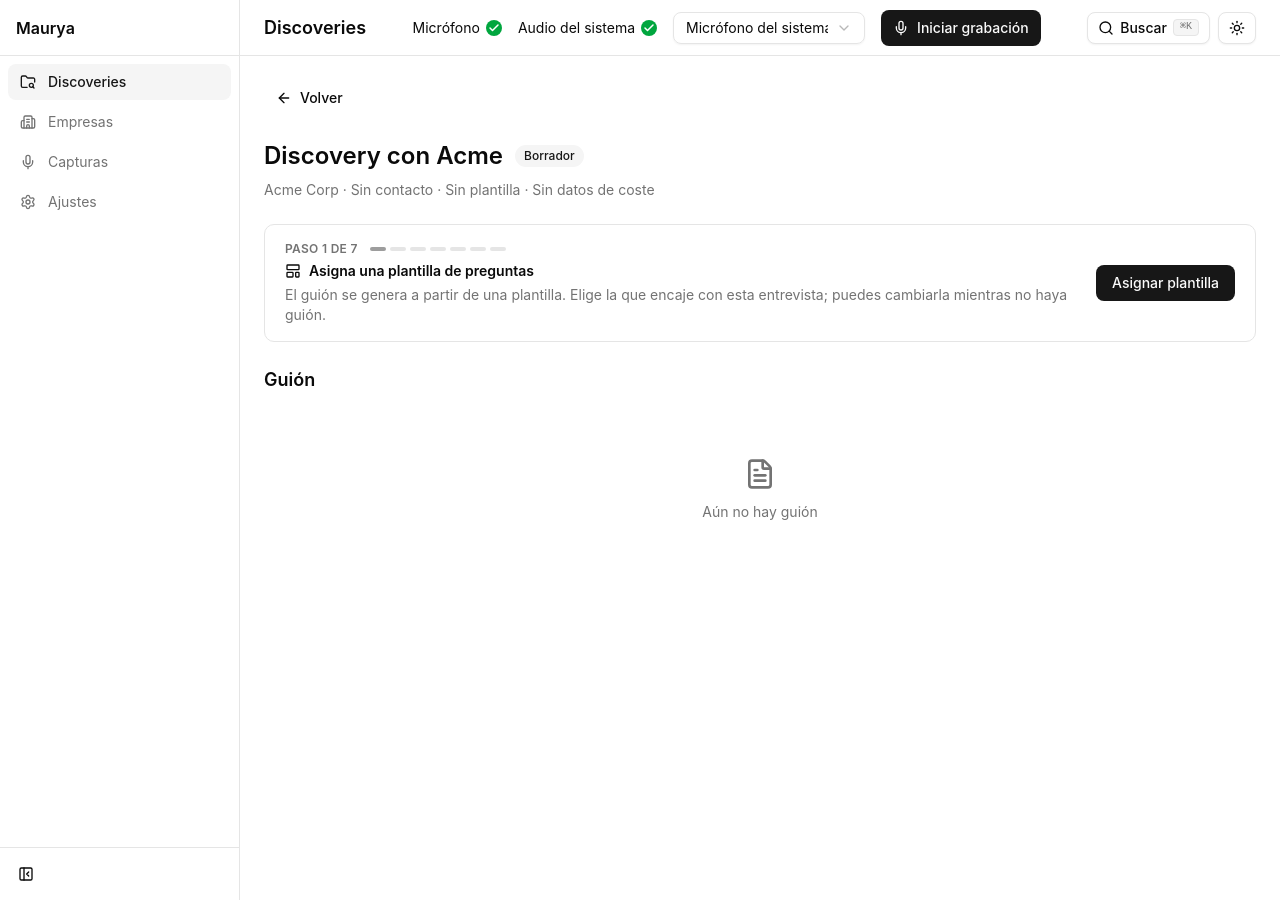
Scenario: DiscardReasonsDialog (motivos al finalizar SPEC-039) › closes without persisting anything when Omitir is pressed
The width and height of the screenshot is (1280, 900).
Click the button "Iniciar grabación": (961, 28) x1=881 y1=10 x2=1041 y2=46
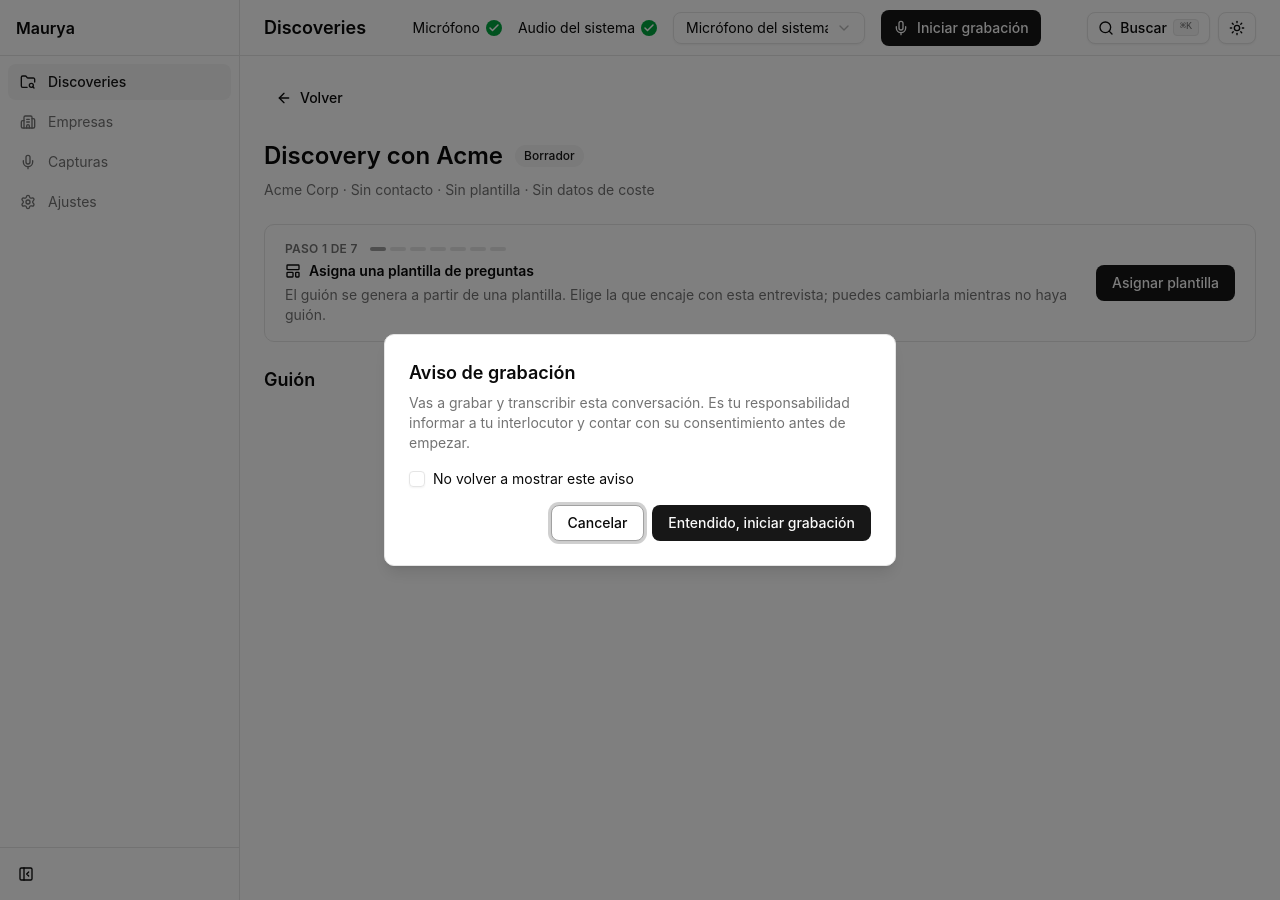
Click the button "Entendido, iniciar grabación": (762, 523) x1=652 y1=505 x2=871 y2=541
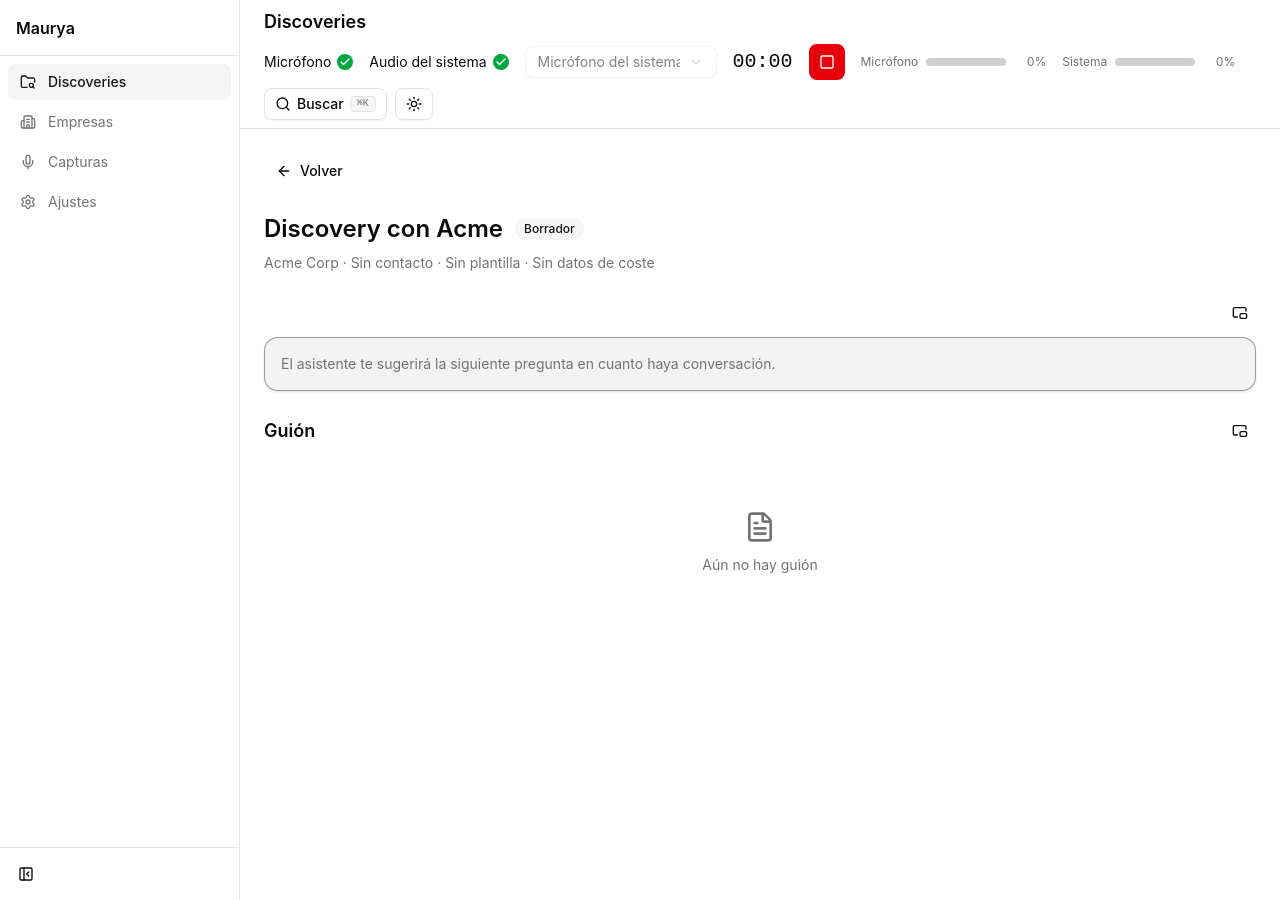
Check: the button named "Detener" is shown
Click the button named "Detener": (826, 62) x1=808 y1=44 x2=844 y2=80
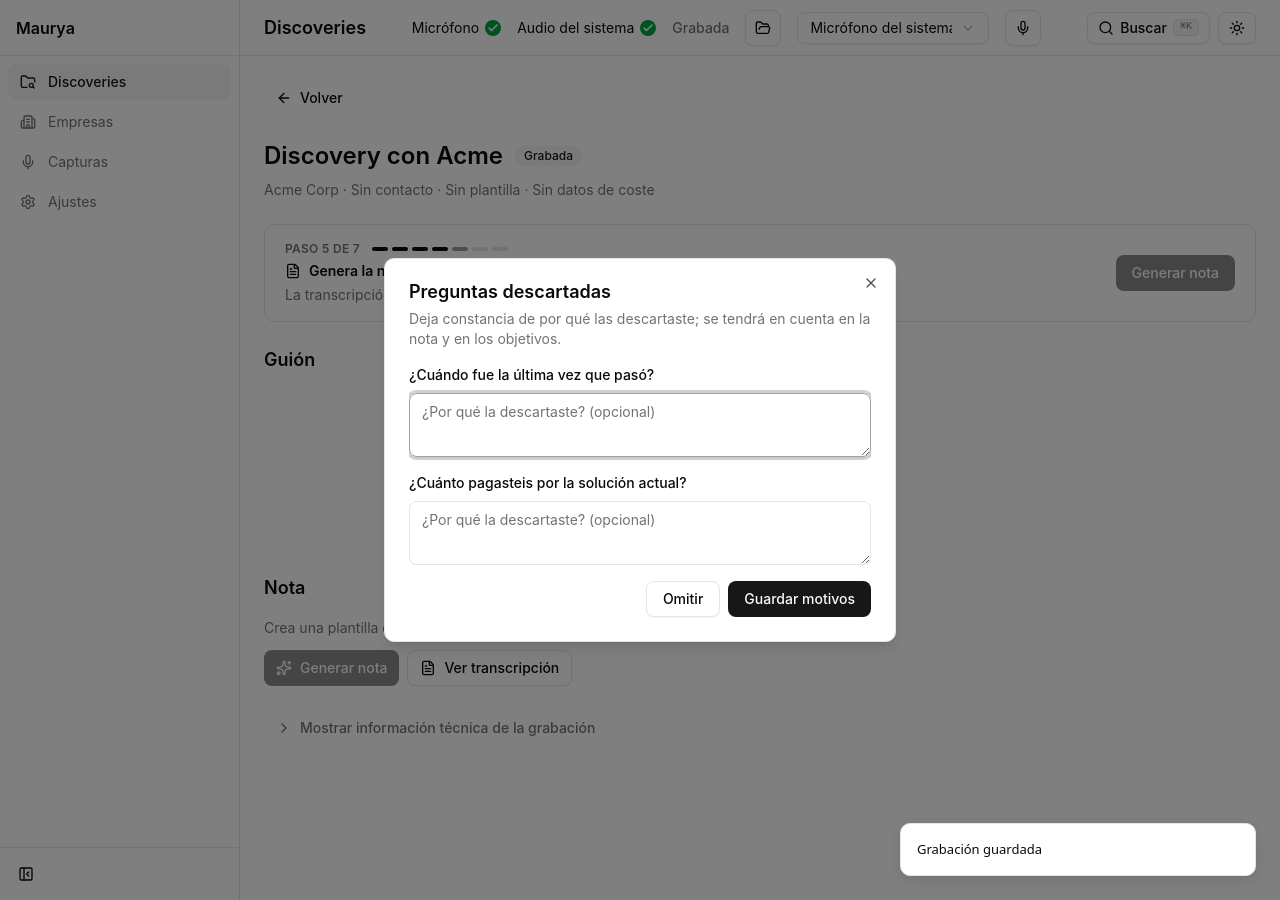
Click the button with test id "discard-reasons-skip": (683, 599) x1=646 y1=581 x2=720 y2=617
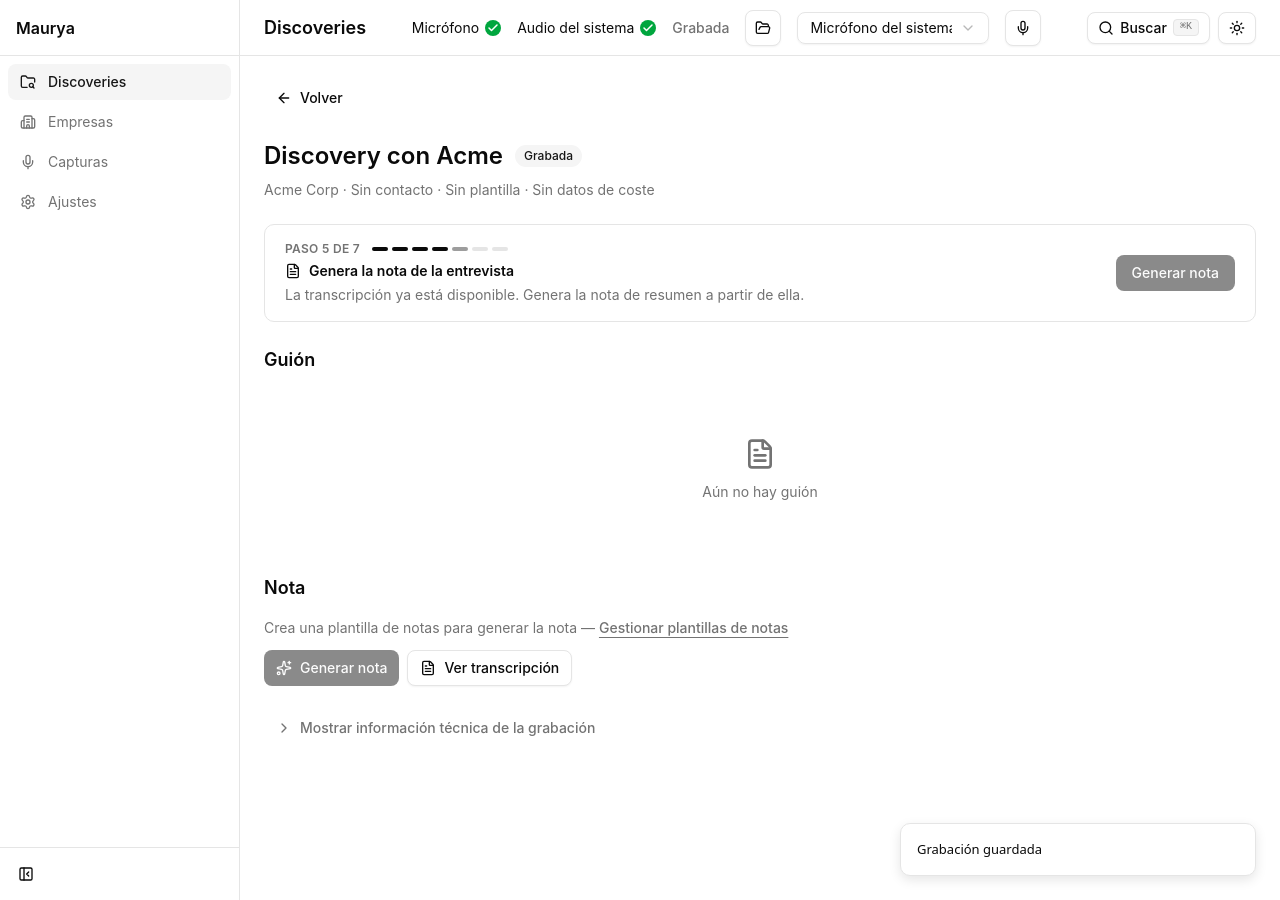
Check: the dialog with test id "discard-reasons-dialog" is gone
